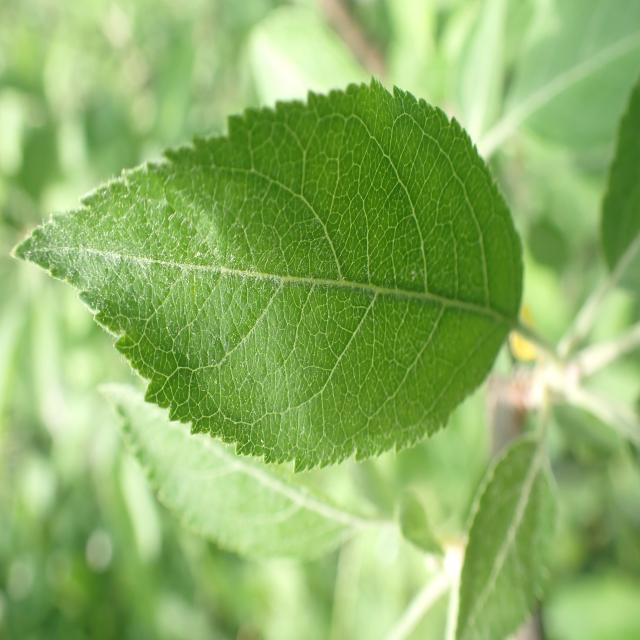healthy: (11, 75, 525, 474), (96, 380, 382, 561), (448, 433, 556, 639)
